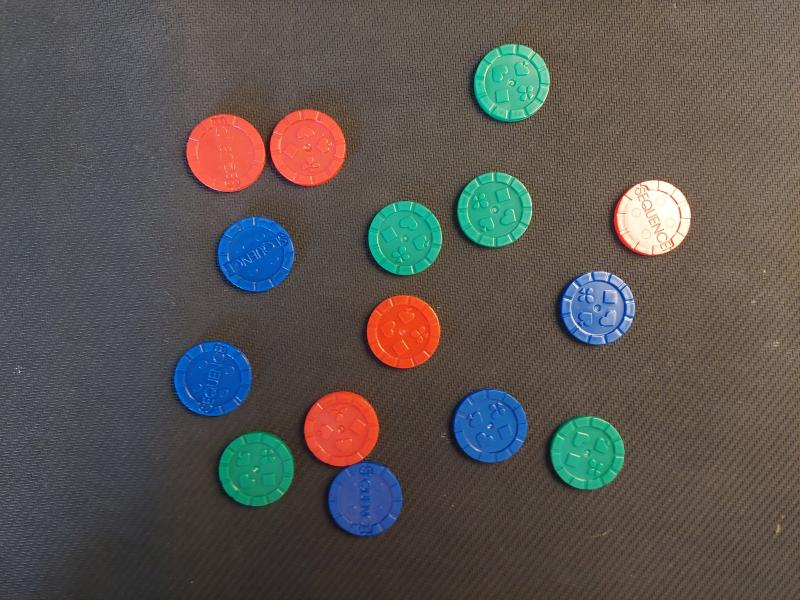Blue_Token: (211, 214, 298, 295), (171, 337, 256, 419), (553, 267, 638, 348), (448, 386, 531, 464), (326, 460, 407, 538)
Green_Token: (470, 42, 554, 124), (455, 169, 534, 249), (216, 430, 296, 509), (545, 414, 626, 492), (367, 199, 446, 278)
Red_Token: (609, 176, 694, 260), (183, 110, 268, 194), (362, 290, 446, 374), (266, 106, 349, 189), (301, 388, 382, 470)
